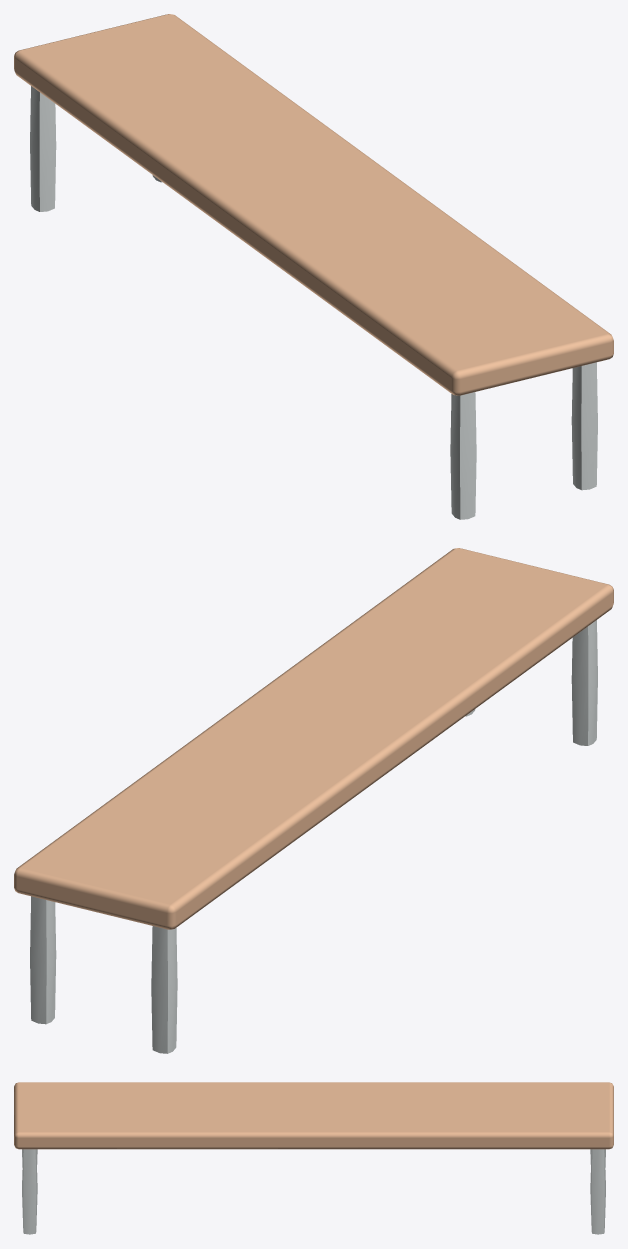
File: desk-return.glb
3 views of the same model, one above another, from view 1: azimuth 30°, elevation 25°; view 2: azimuth 150°, elevation 25°; view 3: azimuth 270°, elevation 25° (orthographic). The views are drawn at different scales.
Parts seen in each view (by area): view 1: part (×4); view 2: part (×4); view 3: part (×3).
Part boxes in pixels (left/top/right/bottom): part (×4): left=14, top=14, right=613, bottom=519; part (×4): left=14, top=548, right=613, bottom=1053; part (×3): left=14, top=1082, right=613, bottom=1234.
Size of the model in its own units: 0.8 by 0.74 by 3.8.
1 material, 1 textured.
